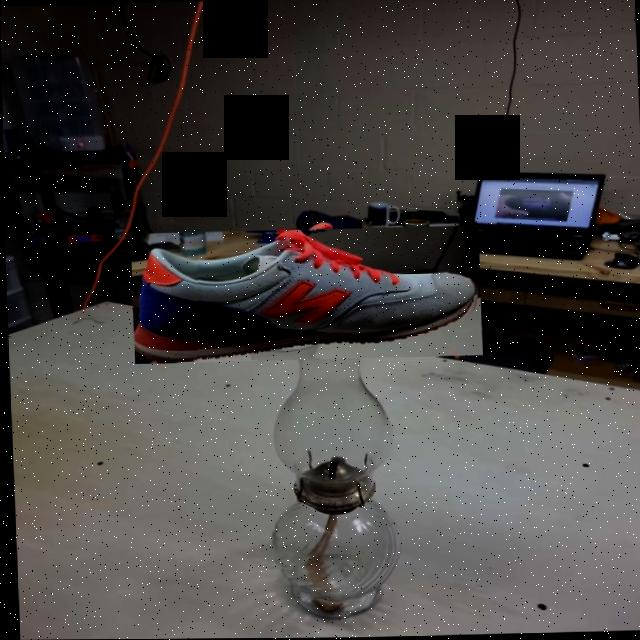shoe: (128, 226, 481, 364)
